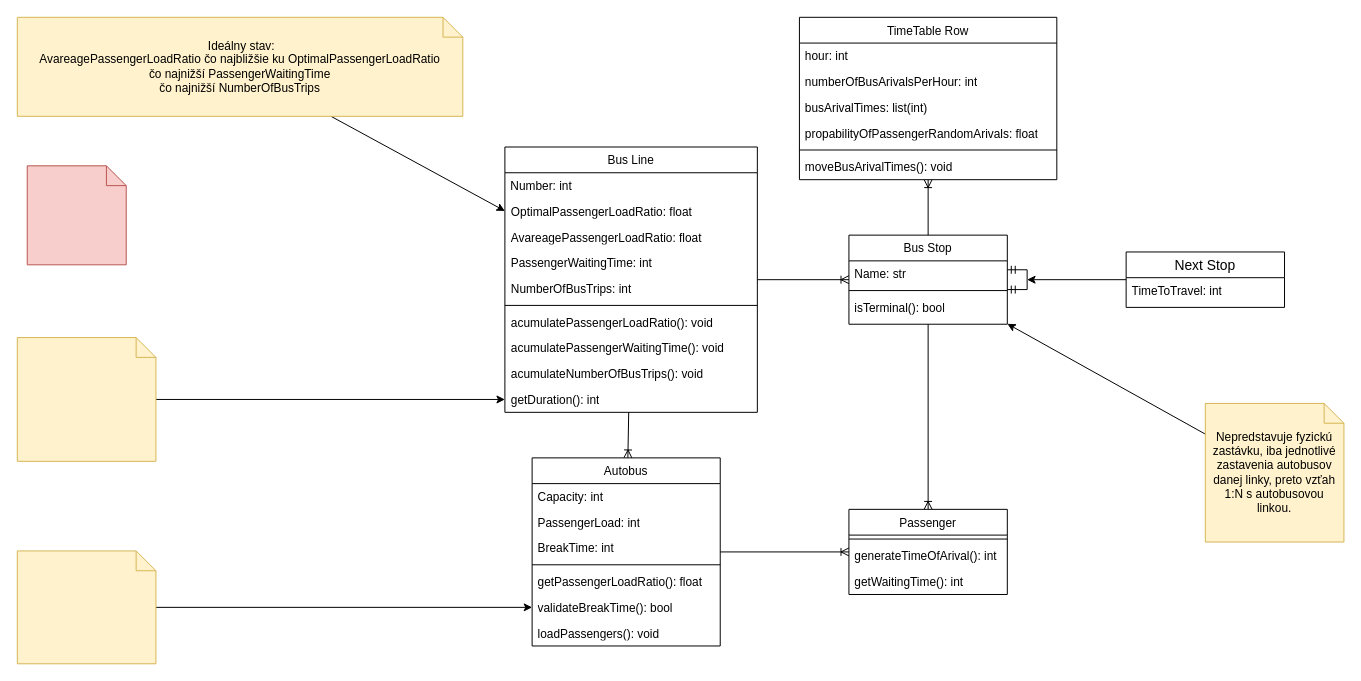
Some shapes in this 1361 by 681 pixel diagram are drawn without their labels. Each missing label, with the centre of its shape:
Na každé 4 hodiny si musí vodič spraviť minimálne 30 minút prestávku: (x=86, y=607)
Poriešiť výstupy cestujúcich: (x=76, y=215)
Vyrovnávacia doba: na konečnej zastávke musí autobus čakať aspoň 5 minút: (x=86, y=399)
